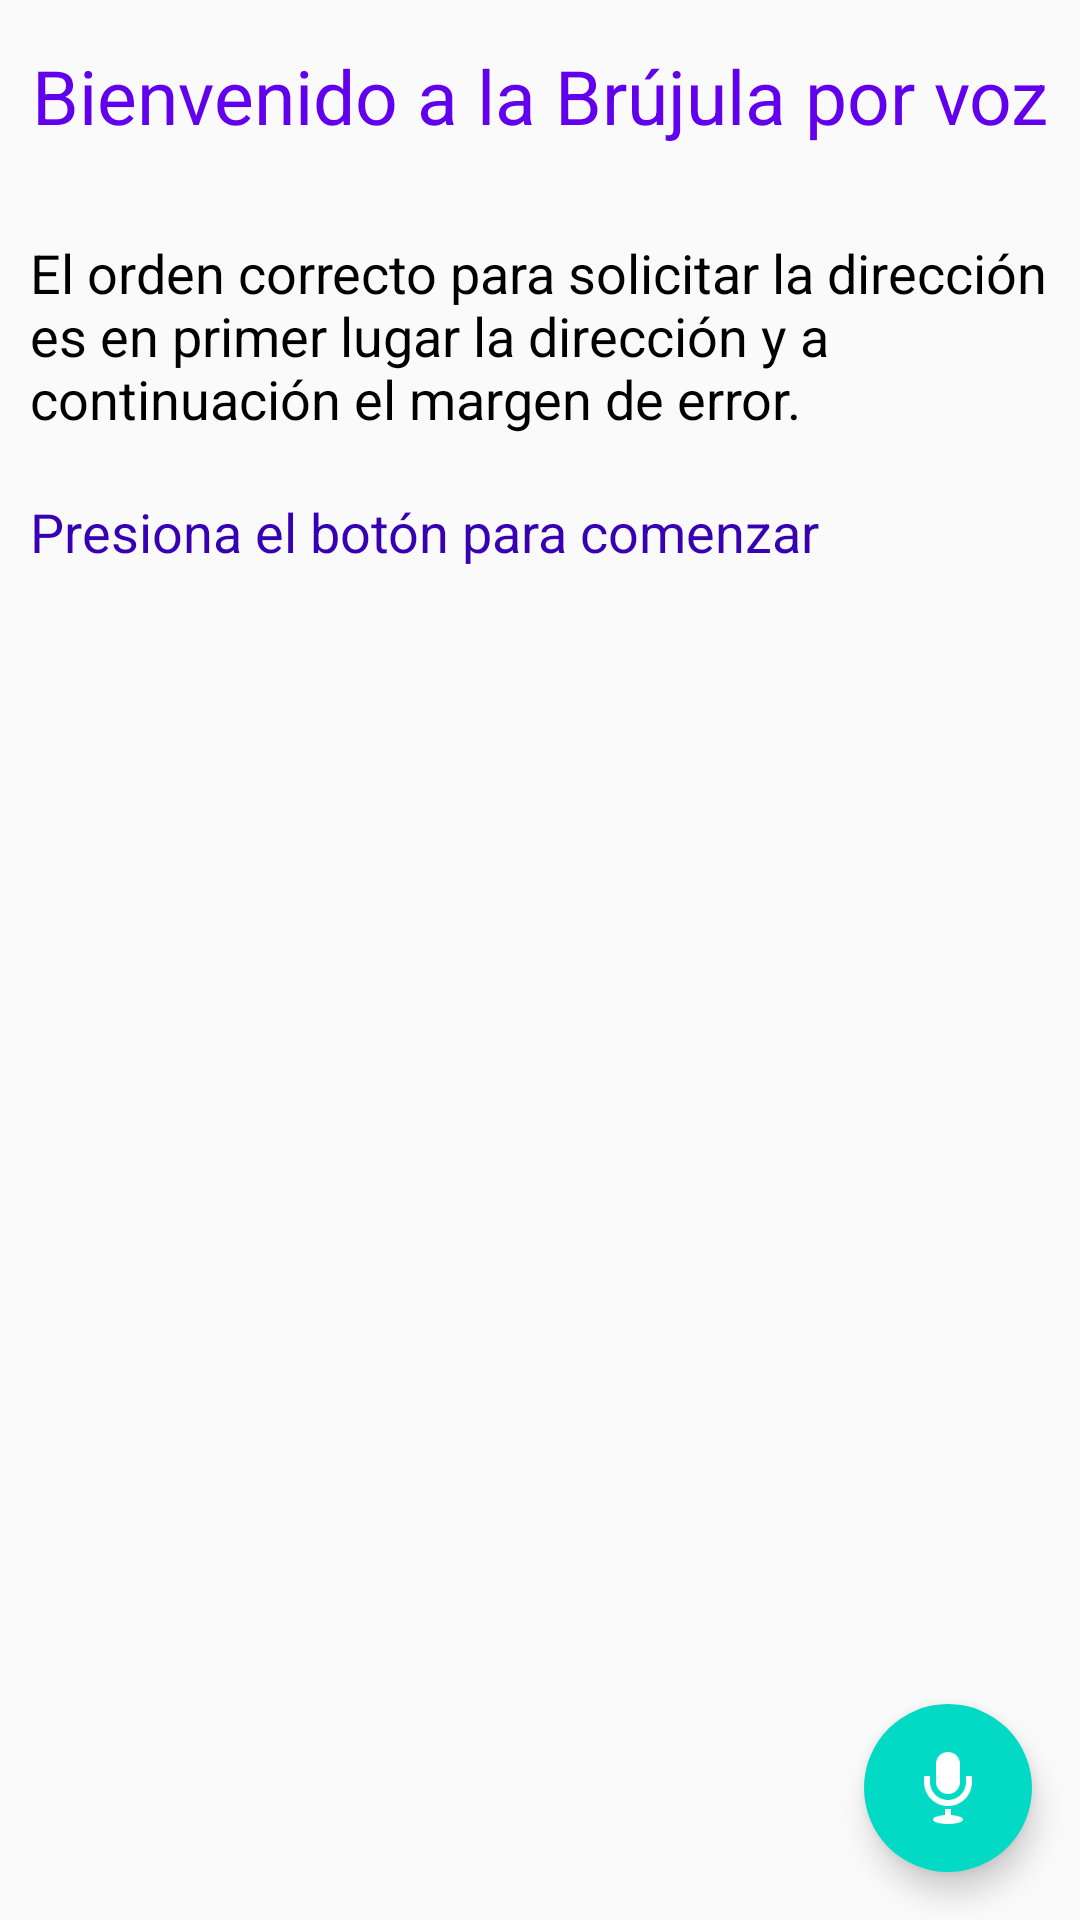

Where icons sit on this 1080×1920 app screen, as (x1, y1, x2, y2):
microphone: (864, 1704, 1032, 1872)
